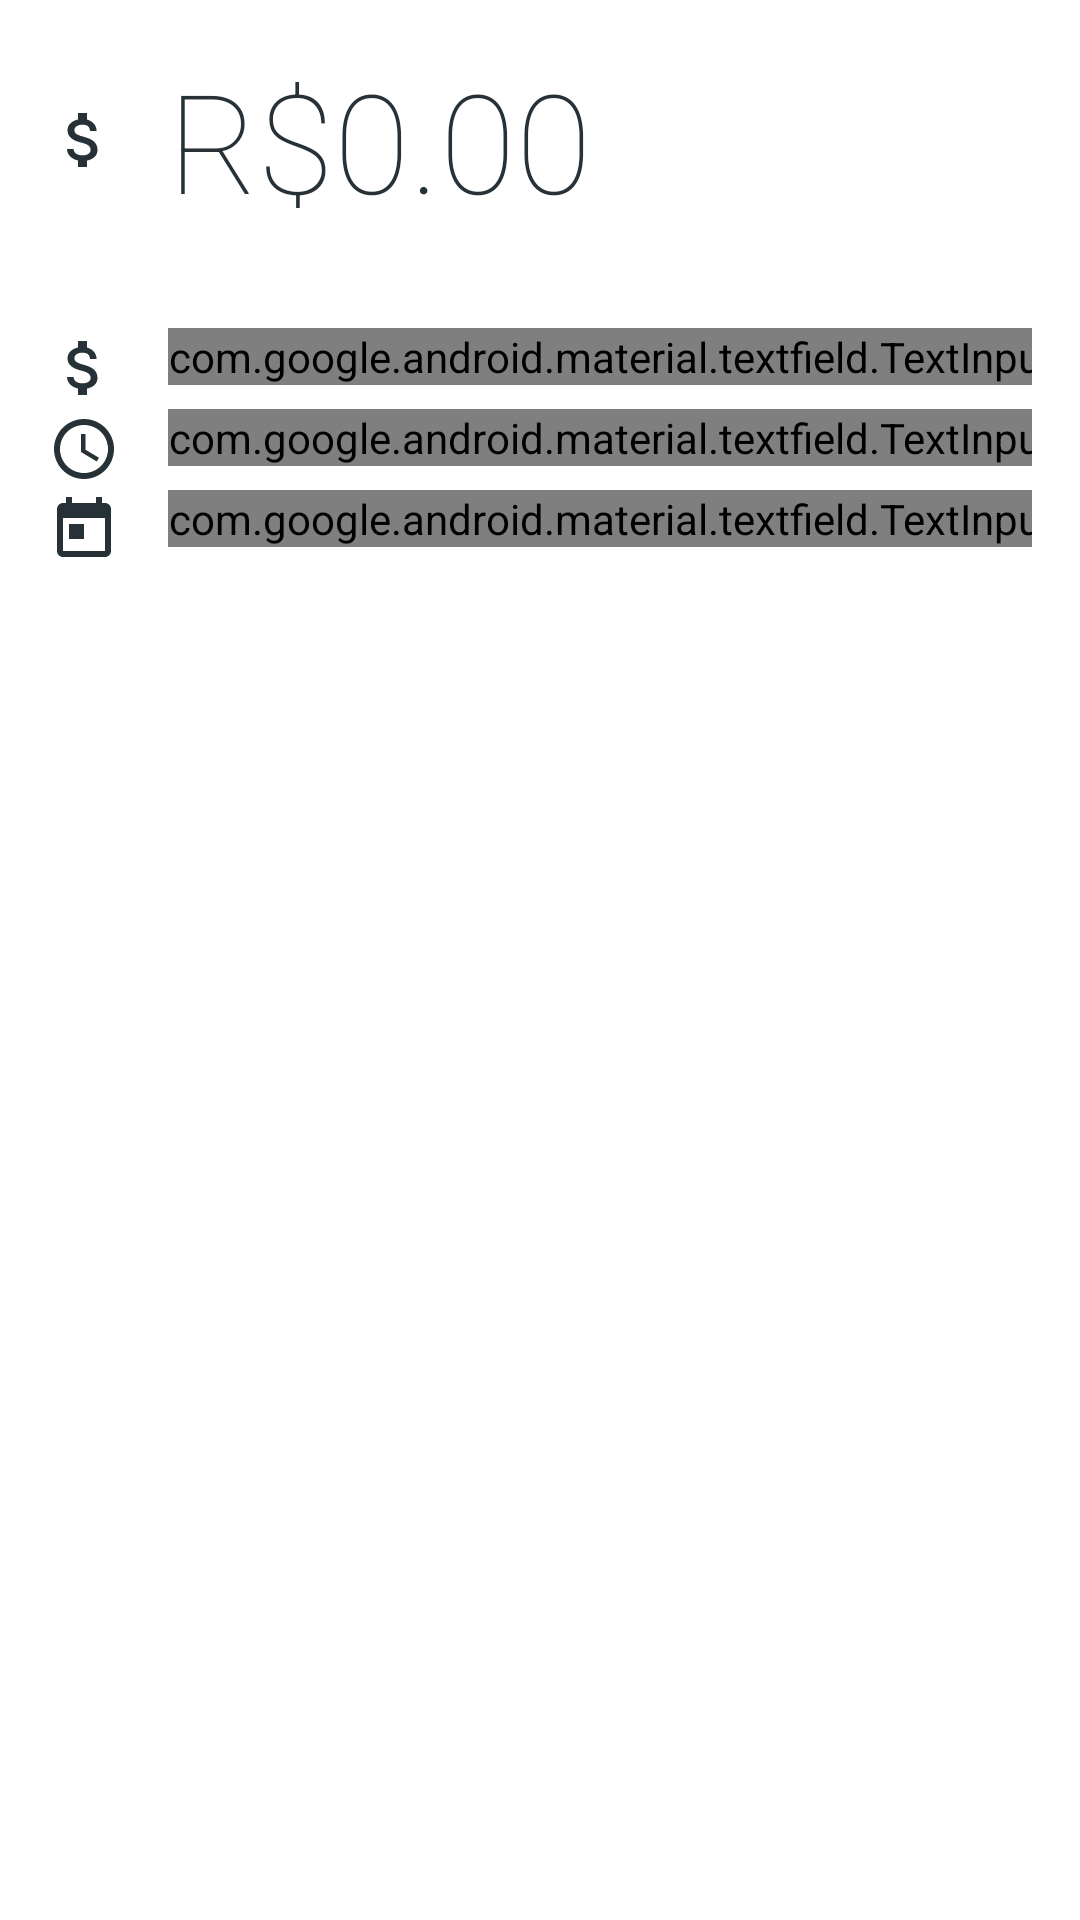

Icon click points for this 1080w x 1920h phone screenshot, format [x,y]:
access time: [84,449]
attach money: [82,140], [82,368]
today: [84,527]
